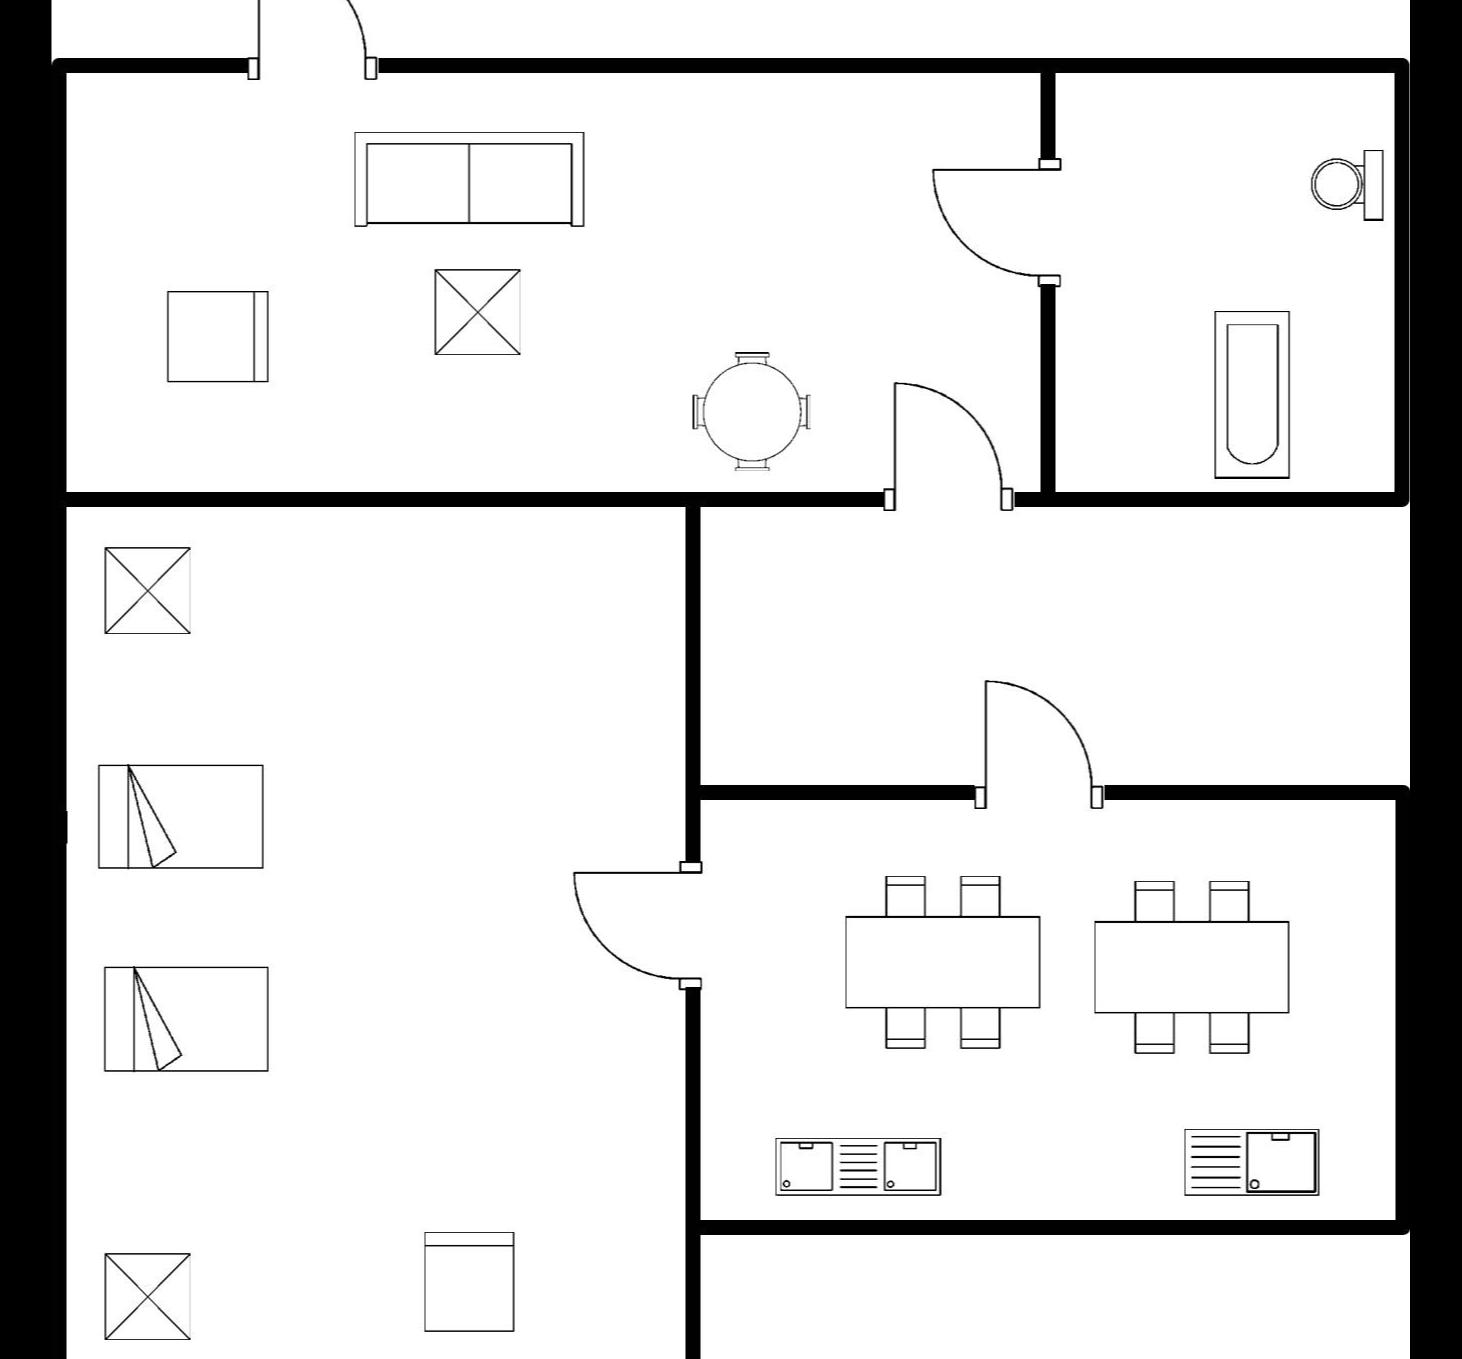sink: (765, 1128, 950, 1207)
